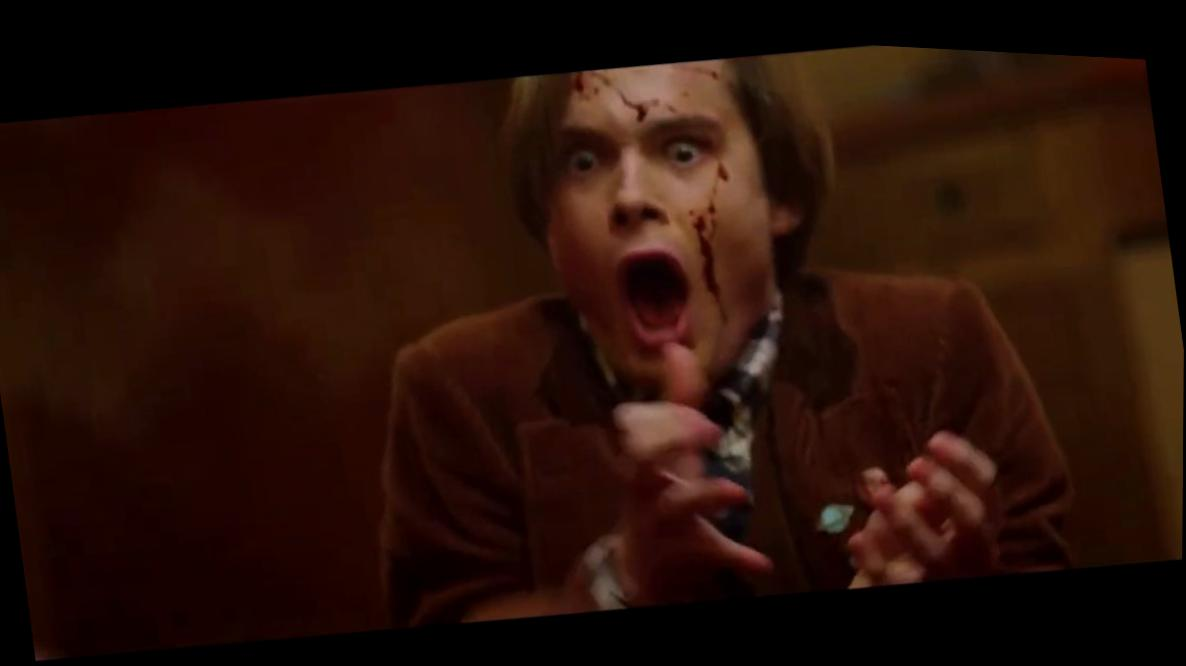Fire: (571, 66, 685, 119), (689, 190, 724, 316), (702, 168, 724, 193), (681, 58, 718, 70), (719, 155, 727, 173)
